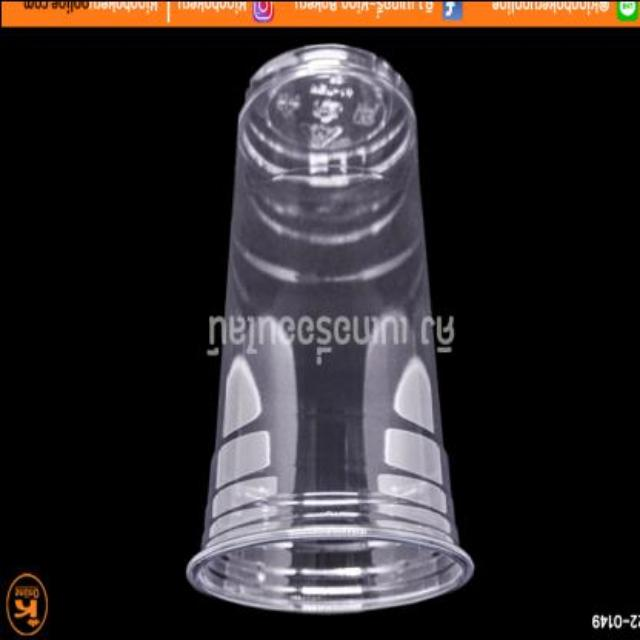plastic_box: (183, 45, 472, 609)
